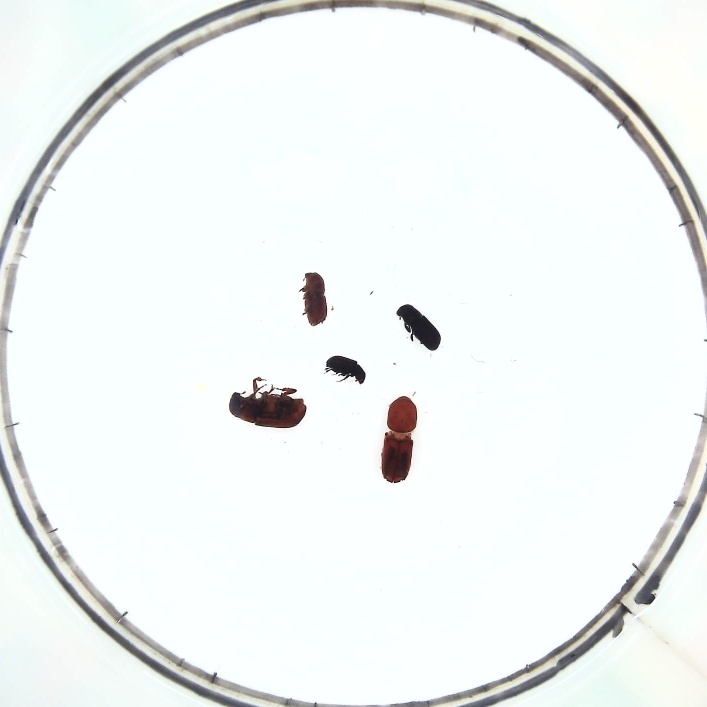armandi: (397, 303, 441, 352)
boerner: (381, 395, 418, 483)
coleoptera: (324, 355, 367, 385)
leconte: (229, 381, 307, 430)
linnaeus: (300, 269, 330, 328)
